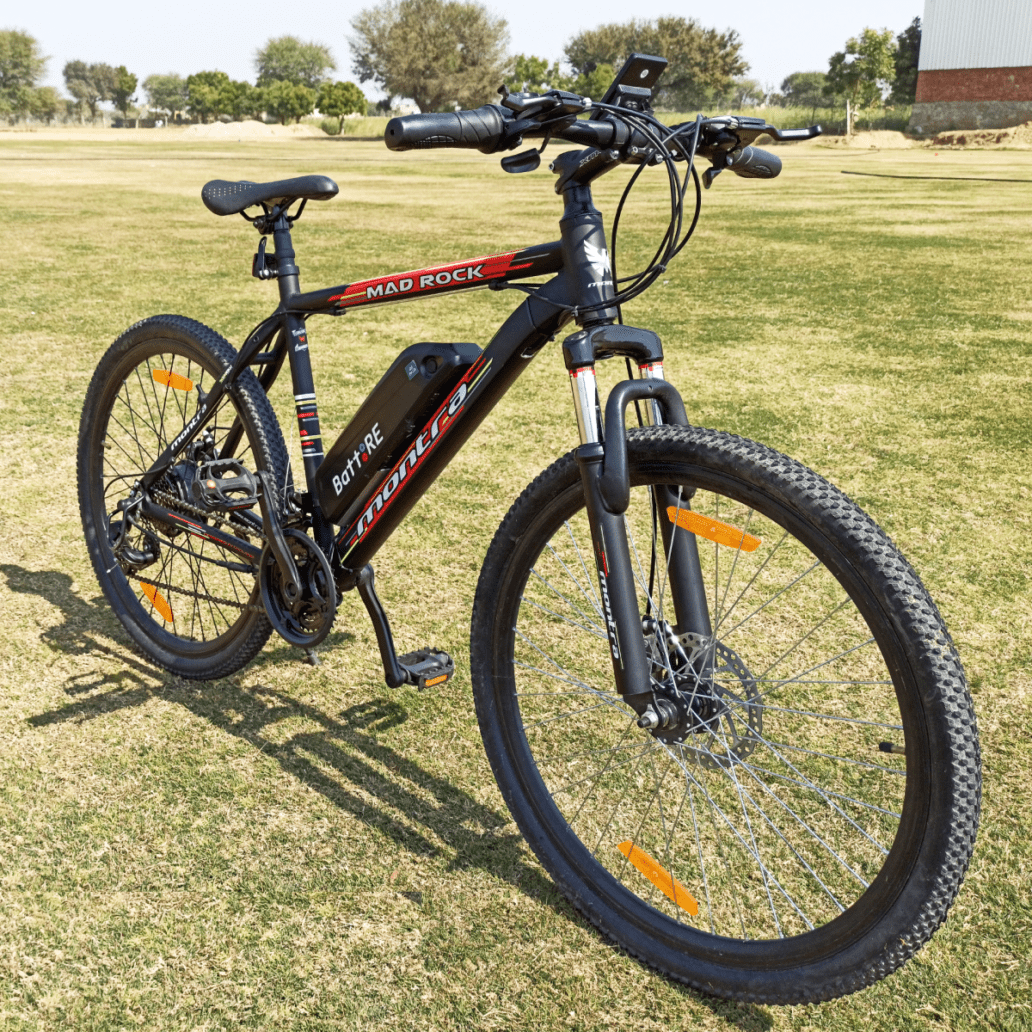cycle: (57, 45, 1005, 998)
